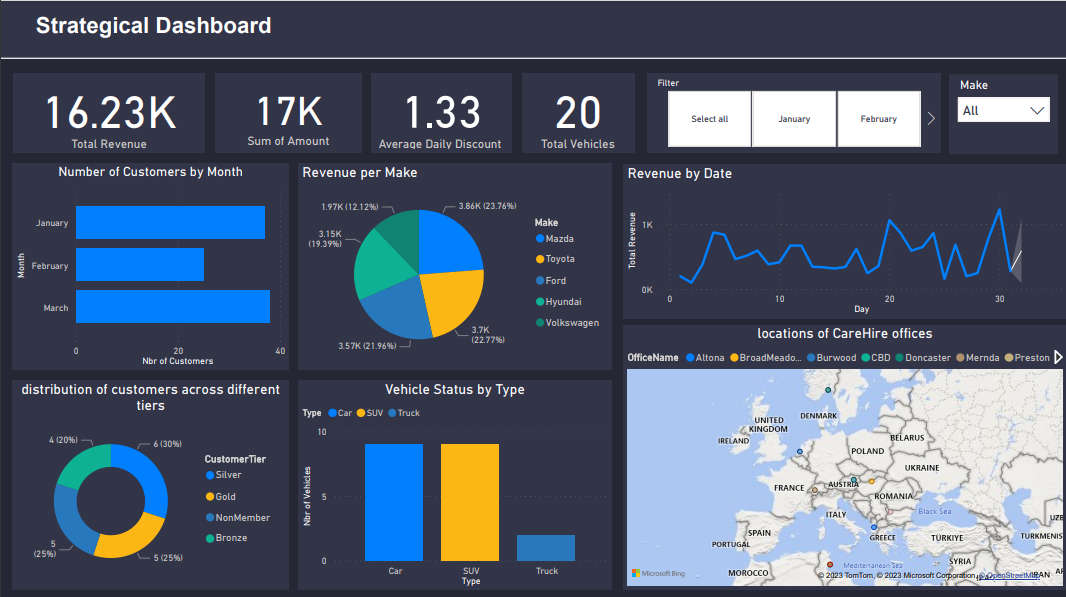

Layout of this report page (visuals, bound fields, positions):
{"tool":"powerbi","page":{"name":"strategical","canvas":[1280,720],"ordinal":0},"visuals":[{"type":"textbox","box":[47.7,15.9,210.3,36.7],"z":0},{"type":"shape","box":[0,0,1279.6,69.9],"z":1000},{"type":"textbox","box":[38.4,11,308.5,43.9],"z":2000},{"type":"barChart","title":"Number of Customers by Month","fields":{"Category":["Table 2 (CarHire).Date.Variation.Date Hierarchy.Month"],"Y":["CountNonNull(Table 2 (CarHire).CustomerID)"]},"box":[15.1,196.1,331.8,248.2],"z":3000},{"type":"donutChart","title":"distribution of customers across different tiers","fields":{"Category":["Customer.CustomerTier"],"Y":["CountNonNull(Customer.CustomerTier)"]},"box":[15.1,456.6,331.8,250.9],"z":4000},{"type":"map","title":"locations of CareHire offices","fields":{"Category":["OfficeLocation.OfficePostCode"],"Series":["OfficeLocation.OfficeName"]},"box":[747.7,389.5,531.9,318.4],"z":5000},{"type":"columnChart","title":"Vehicle Status by Type","fields":{"Category":["FleetData.Type"],"Series":["FleetData.Type"],"Y":["CountNonNull(FleetData.VehicleStatus)"]},"box":[358,457,376,251],"z":6000},{"type":"lineChart","title":"Revenue by Date","fields":{"Y":["Sum(Table 2 (CarHire).Revenue)"],"Category":["Table 2 (CarHire).Date.Variation.Date Hierarchy.Day"]},"box":[747.7,196.6,531.9,184.5],"z":7000},{"type":"card","fields":{"Values":["Sum(Table 2 (CarHire).Revenue)"]},"box":[15.7,88,230.4,95.3],"z":8000},{"type":"card","fields":{"Values":["Sum(Table 2 (CarHire).Amount)"]},"box":[258.1,88,176.1,95.3],"z":9000},{"type":"card","fields":{"Values":["Avg(Table 2 (CarHire).DiscountOnDailyRate(%))"]},"box":[446.2,88,167.6,95.3],"z":10000},{"type":"card","fields":{"Values":["Count(FleetData.VehicleId)"]},"box":[625.9,88,135.1,95.3],"z":11000},{"type":"slicer","fields":{"Values":["Table 2 (CarHire).Date.Variation.Date Hierarchy.Month"]},"box":[776,87.7,352.4,94.6],"z":12000},{"type":"slicer","fields":{"Values":["Table 2 (CarHire).Make"]},"box":[1139.3,89.1,130.2,94.6],"z":13000},{"type":"pieChart","title":"Revenue per Make","fields":{"Category":["Table 2 (CarHire).Make"],"Y":["Sum(Table 2 (CarHire).Revenue)"]},"box":[357.8,196.1,375.7,248.2],"z":14000}]}

Visuals, with their boxes in screenshot pixels (x1, y1, x2, y2), scaled from the page's 1280x720 canvas onto the 1066x597 screenshot:
textbox: bbox=[40, 13, 215, 44]
shape: bbox=[0, 0, 1065, 58]
textbox: bbox=[32, 9, 289, 46]
"Number of Customers by Month" barChart: bbox=[13, 163, 289, 368]
"distribution of customers across different tiers" donutChart: bbox=[13, 379, 289, 587]
"locations of CareHire offices" map: bbox=[623, 323, 1065, 587]
"Vehicle Status by Type" columnChart: bbox=[298, 379, 611, 587]
"Revenue by Date" lineChart: bbox=[623, 163, 1065, 316]
card - Sum(Table 2 (CarHire).Revenue): bbox=[13, 73, 205, 152]
card - Sum(Table 2 (CarHire).Amount): bbox=[215, 73, 362, 152]
card - Avg(Table 2 (CarHire).DiscountOnDailyRate(%)): bbox=[372, 73, 511, 152]
card - Count(FleetData.VehicleId): bbox=[521, 73, 634, 152]
slicer - Table 2 (CarHire).Date.Variation.Date Hierarchy.Month: bbox=[646, 73, 940, 151]
slicer - Table 2 (CarHire).Make: bbox=[949, 74, 1057, 152]
"Revenue per Make" pieChart: bbox=[298, 163, 611, 368]
